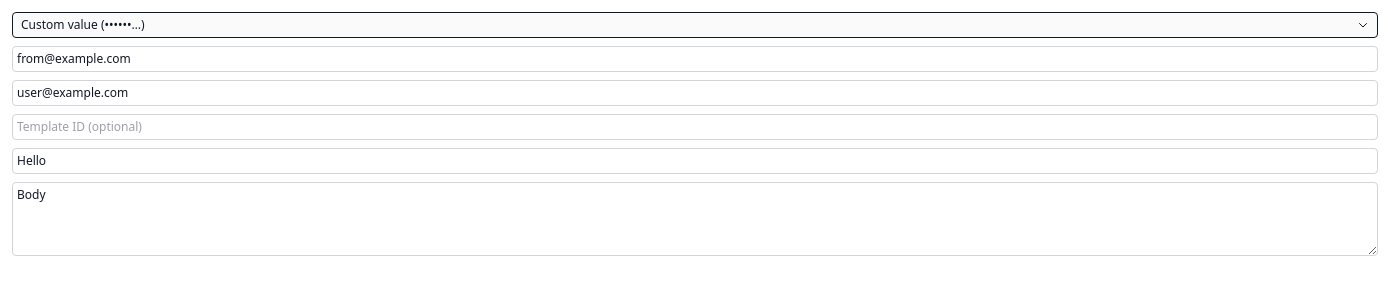
Test: SendGridAction › surfaces validation errors for invalid recipient emails
Replace the text in the 2nd field with placeholder "To (comma separated)" with "invalid-email": (695, 93) [12,80,1378,106]
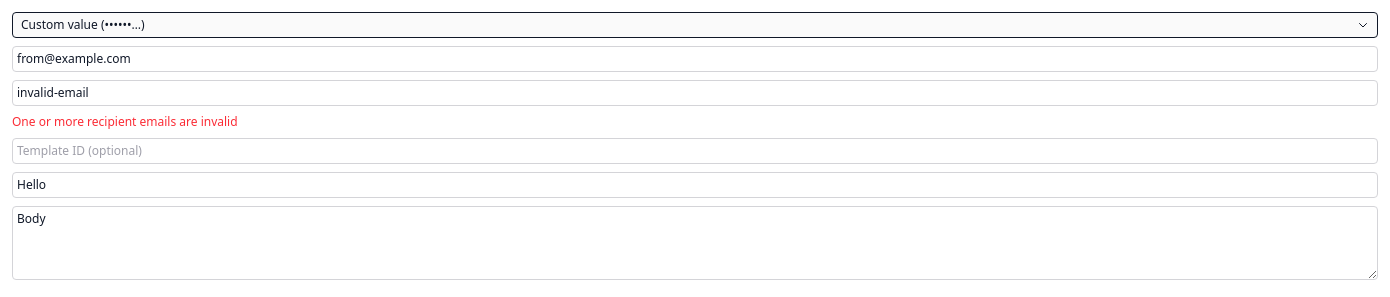
Expected: the text "One or more recipient emails are invalid" is shown, [12,113,238,130]
